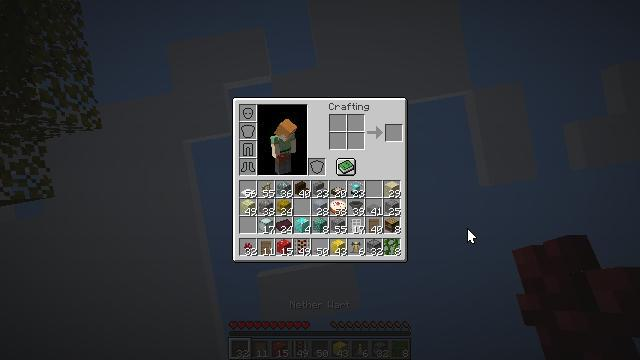cursor: (467, 228, 477, 244)
